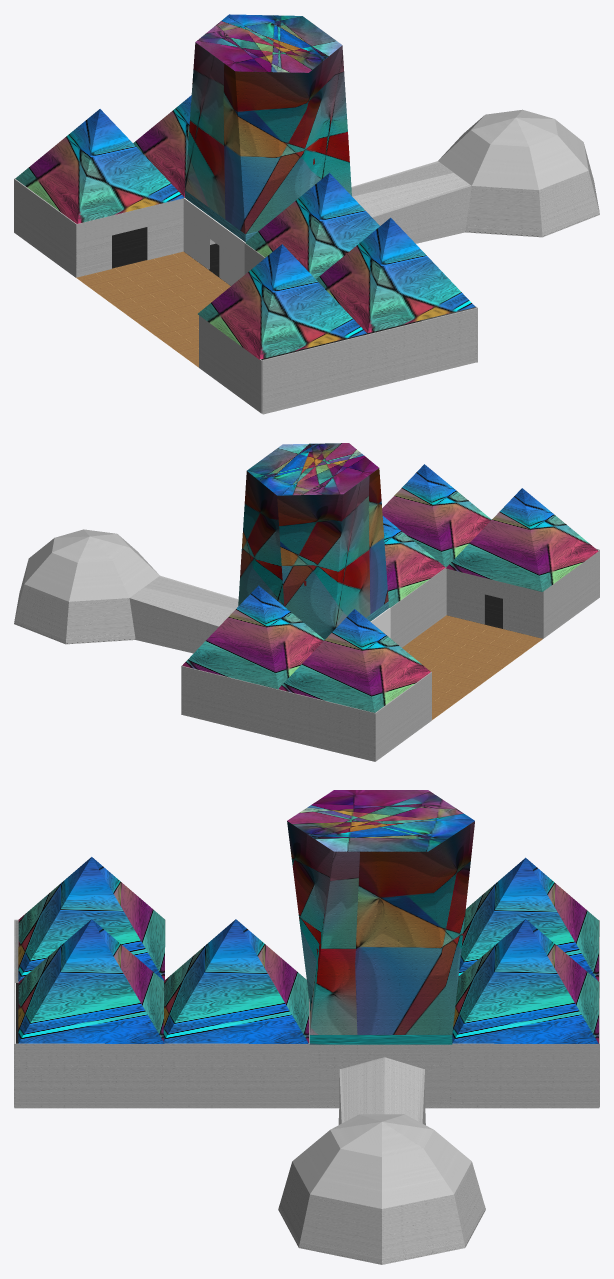
The model's file is Museum.fbx.
3 renders of one model, top to bottom at view 1: azimuth 30°, elevation 25°; view 2: azimuth 150°, elevation 25°; view 3: azimuth 270°, elevation 25°, orthographic. The views are drawn at different scales.
Parts seen in each view (by area): view 1: cyclinderceiling, dome2, wall17, ceilingpyramid4, ceilingpyramid2, ceilingpyramid3, floor5, ceilingpyramid1, wall1, wall11, wall20, window (+2 smaller); view 2: cyclinderceiling, dome2, wall21, ceilingpyramid2, ceilingpyramid4, ceilingpyramid, floor5, ceilingpyramid3, wall14, ceilingpyramid1, wall11, wall20 (+2 smaller); view 3: cyclinderceiling, dome2, ceilingpyramid3, ceilingpyramid1, ceilingpyramid, wall3, wall19, wall7, ceilingpyramid4, ceilingpyramid2.
Boxes of the visible parts, x1,y1,x2,y2 form: cyclinderceiling: [185, 14, 351, 241]; dome2: [351, 109, 599, 243]; wall17: [262, 308, 476, 414]; ceilingpyramid4: [198, 244, 366, 359]; ceilingpyramid2: [15, 109, 184, 223]; ceilingpyramid3: [316, 217, 475, 332]; floor5: [76, 251, 230, 367]; ceilingpyramid1: [245, 173, 379, 278]; wall1: [76, 198, 215, 277]; wall11: [14, 179, 75, 277]; wall20: [199, 315, 262, 413]; window: [183, 198, 245, 285]; cyclinderceiling: [238, 443, 388, 639]; dome2: [14, 529, 238, 653]; wall21: [182, 666, 375, 761]; ceilingpyramid2: [279, 609, 430, 712]; ceilingpyramid4: [446, 488, 598, 591]; ceilingpyramid: [182, 585, 324, 689]; floor5: [402, 615, 542, 719]; ceilingpyramid3: [382, 464, 491, 567]; wall14: [446, 568, 542, 638]; ceilingpyramid1: [382, 516, 445, 607]; wall11: [375, 672, 431, 761]; wall20: [542, 549, 599, 638]; cyclinderceiling: [287, 790, 474, 1044]; dome2: [278, 1043, 485, 1264]; ceilingpyramid3: [18, 919, 164, 1043]; ceilingpyramid1: [163, 919, 308, 1043]; ceilingpyramid: [452, 919, 599, 1043]; wall3: [450, 1043, 599, 1108]; wall19: [14, 1043, 161, 1108]; wall7: [161, 1043, 309, 1108]; ceilingpyramid4: [18, 857, 165, 981]; ceilingpyramid2: [458, 857, 599, 981].
Bounding box in the file's own units: 887 × 378 × 781.
